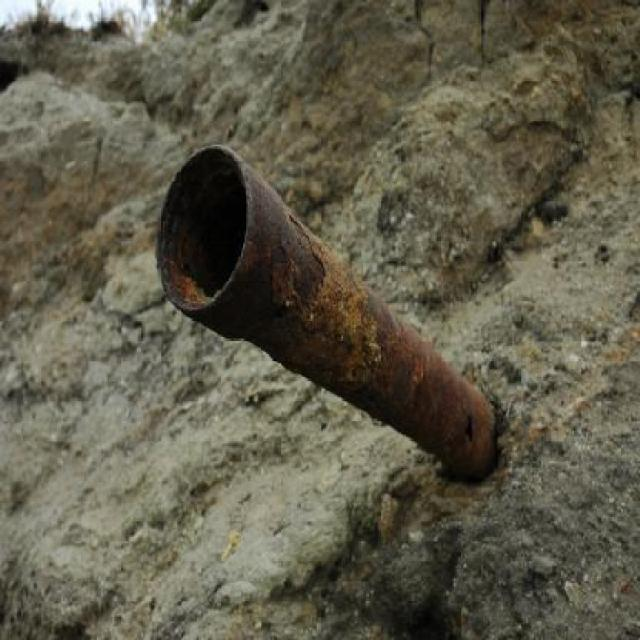corrosion: (158, 138, 500, 484)
